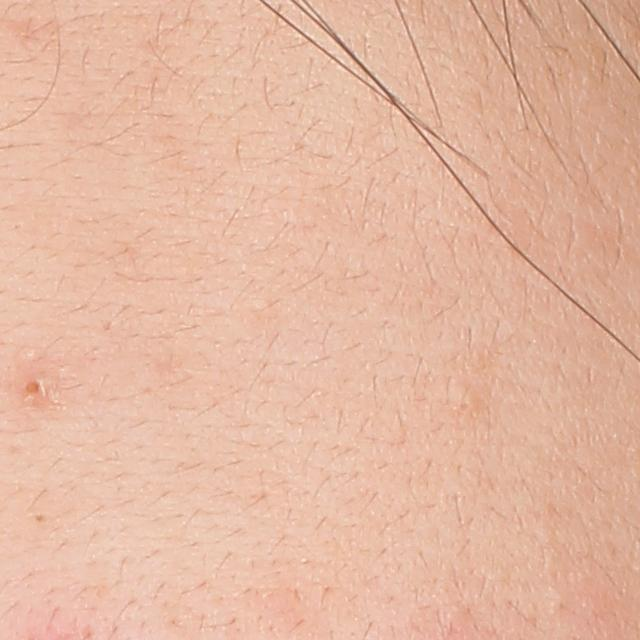comedo: (20, 373, 54, 401), (33, 512, 47, 527)
